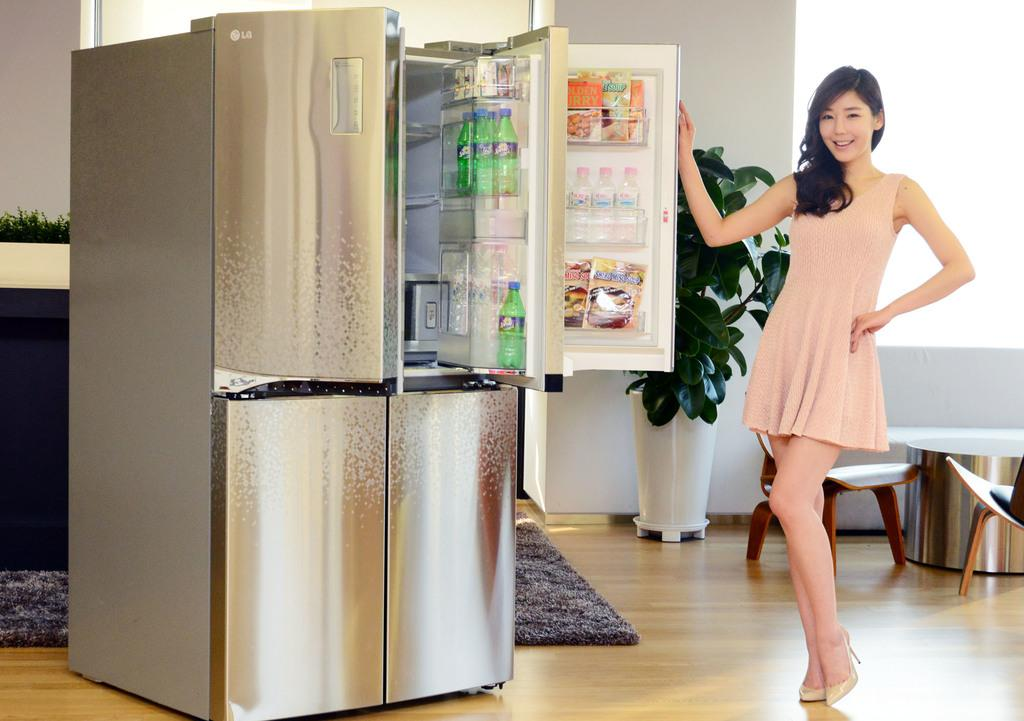handle: (393, 30, 412, 388), (236, 374, 386, 408)
